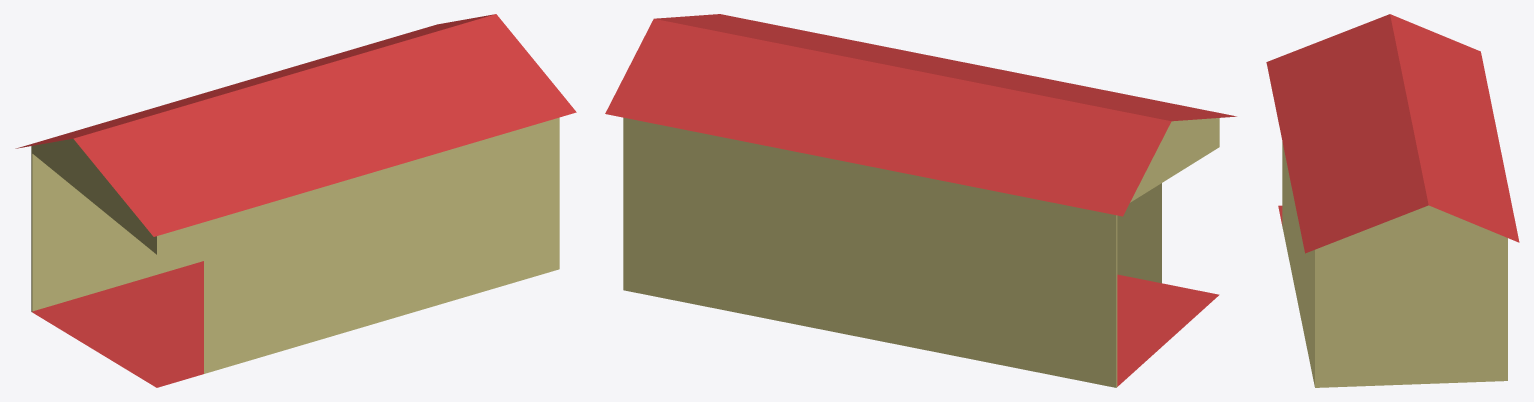
The picture shows the model from 3 angles, left to right: view 1: azimuth 30°, elevation 25°; view 2: azimuth 150°, elevation 25°; view 3: azimuth 270°, elevation 25°; orthographic projection. The views are drawn at different scales.
Bounding box in the file's own units: 21.71 × 11.67 × 9.31.
